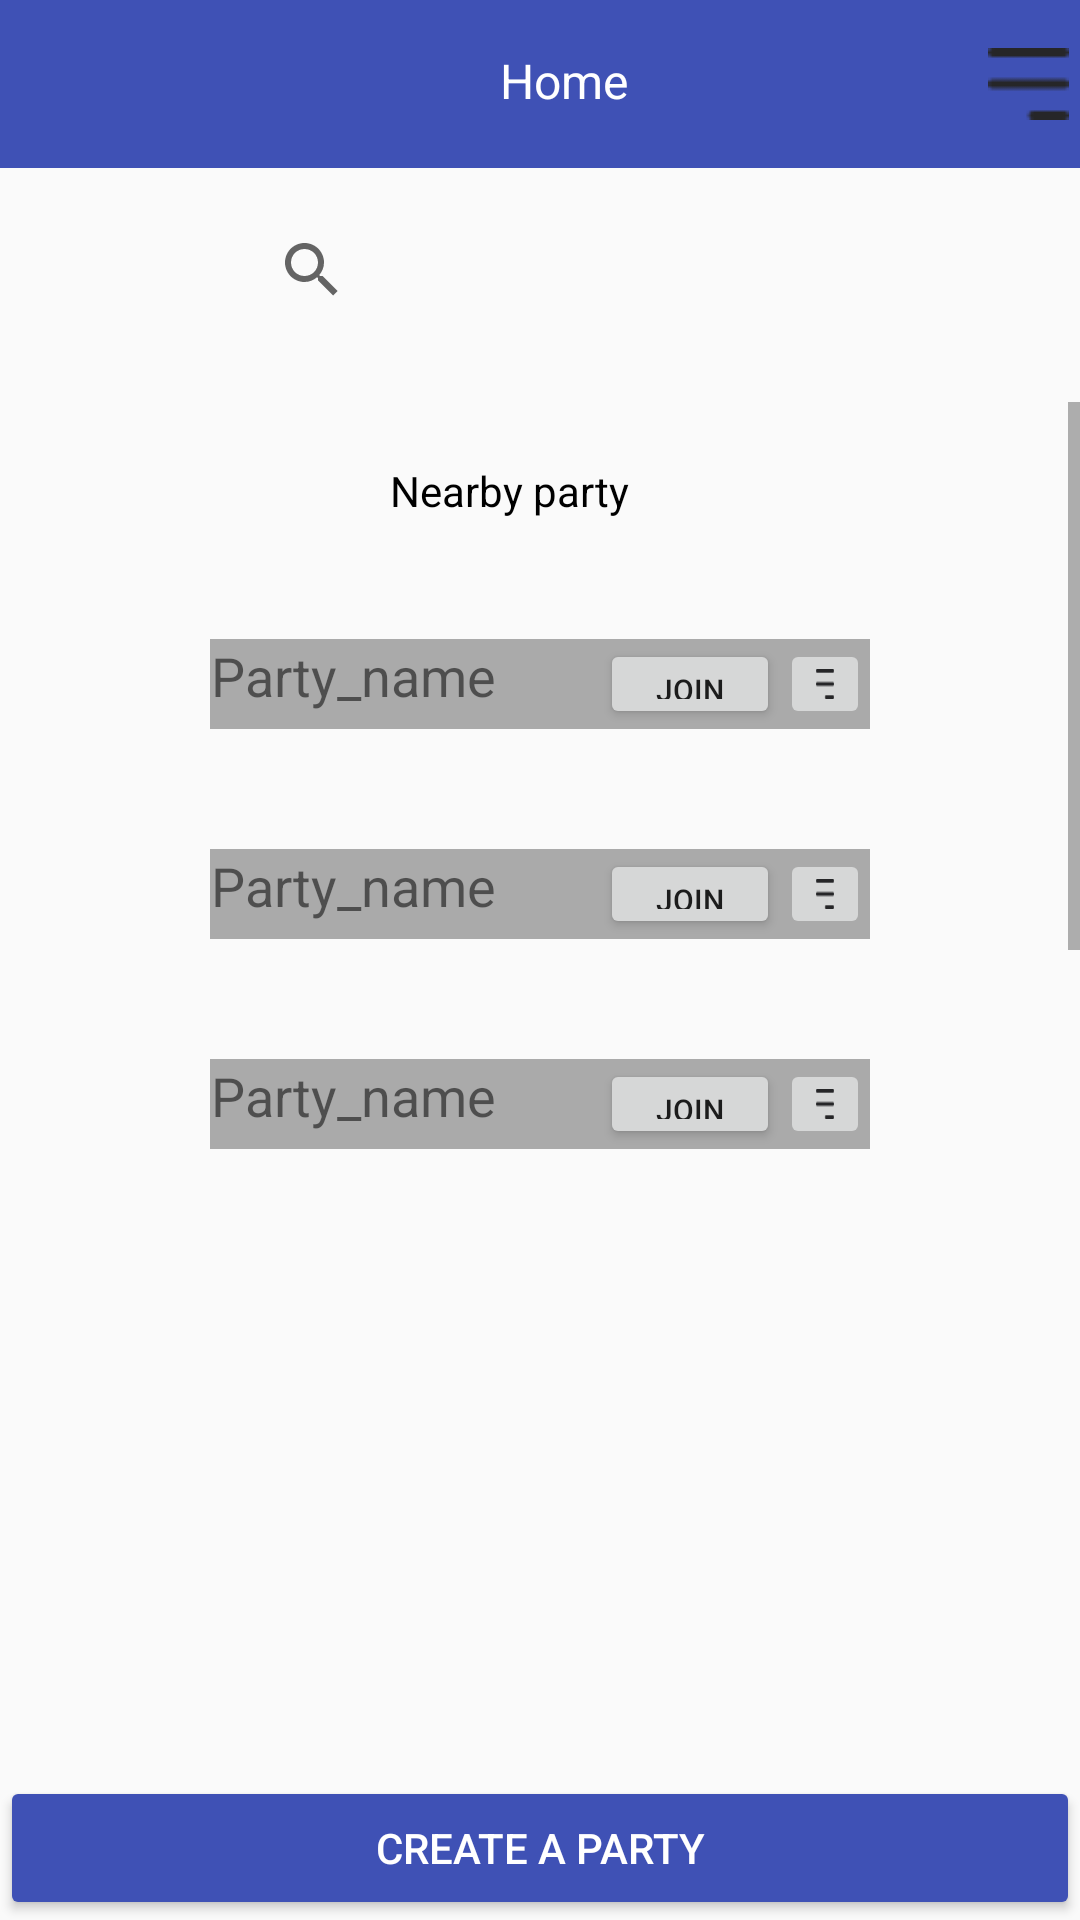

Where icons sit on this 1080 × 1920 app screen, as {"x1": x1, "y1": y1, "x2": x2, "y2": y2}:
menu: {"x1": 988, "y1": 48, "x2": 1069, "y2": 120}, {"x1": 780, "y1": 639, "x2": 870, "y2": 729}, {"x1": 780, "y1": 849, "x2": 870, "y2": 939}, {"x1": 780, "y1": 1059, "x2": 870, "y2": 1149}
